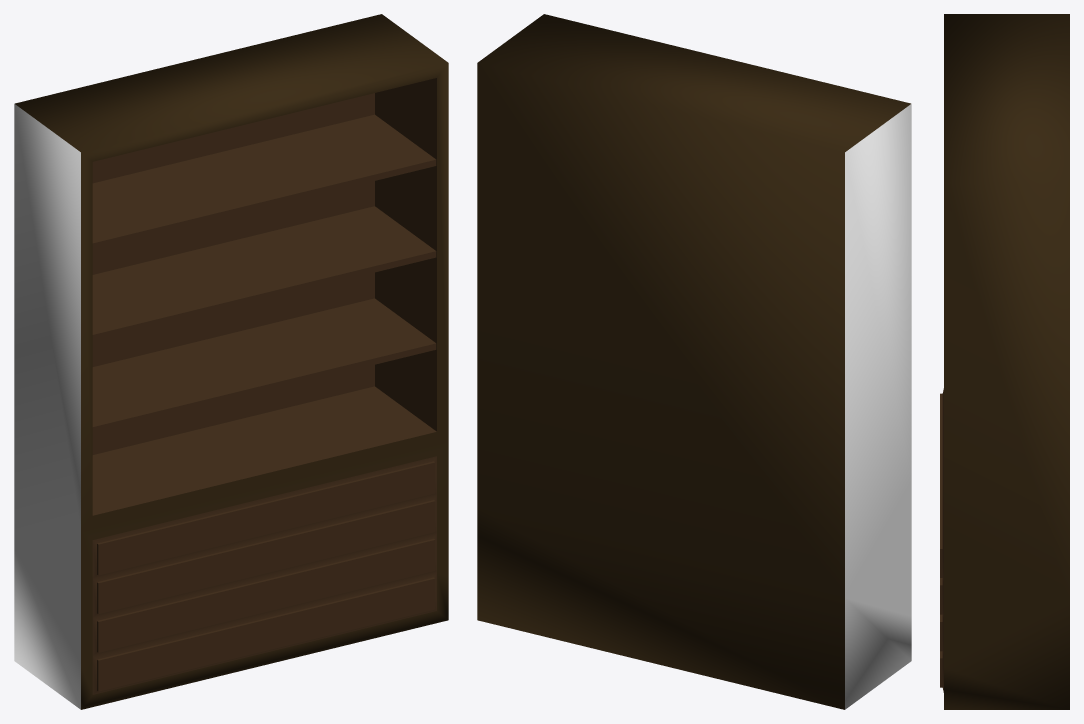
File: Estante.fbx
The picture shows the model from 3 angles, left to right: view 1: azimuth 30°, elevation 25°; view 2: azimuth 150°, elevation 25°; view 3: azimuth 270°, elevation 25°; orthographic projection. The views are drawn at different scales.
Visible parts, largest first — view 1: Estante; view 2: Estante; view 3: Estante.
Part boxes in pixels (x1,y1,x2,y2): Estante: (14, 14, 448, 709); Estante: (477, 14, 911, 709); Estante: (940, 14, 1069, 709).
Size of the model in its own units: 172 by 249 by 55.69.
